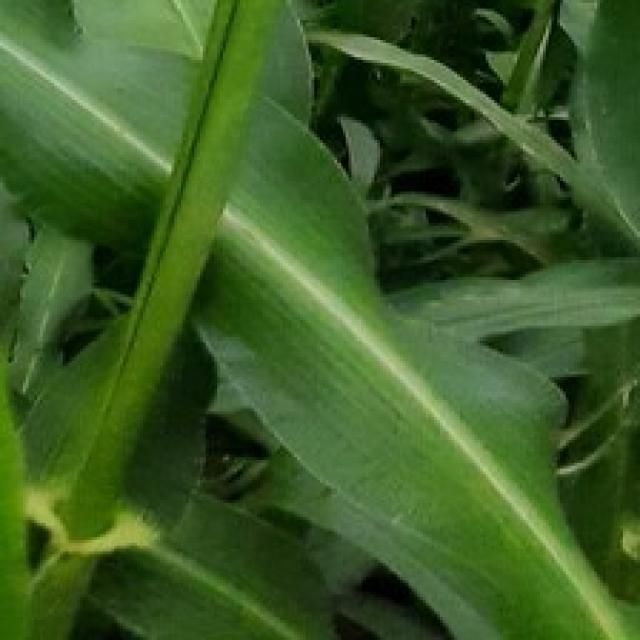Corn: (0, 0, 637, 637), (0, 0, 314, 543)
